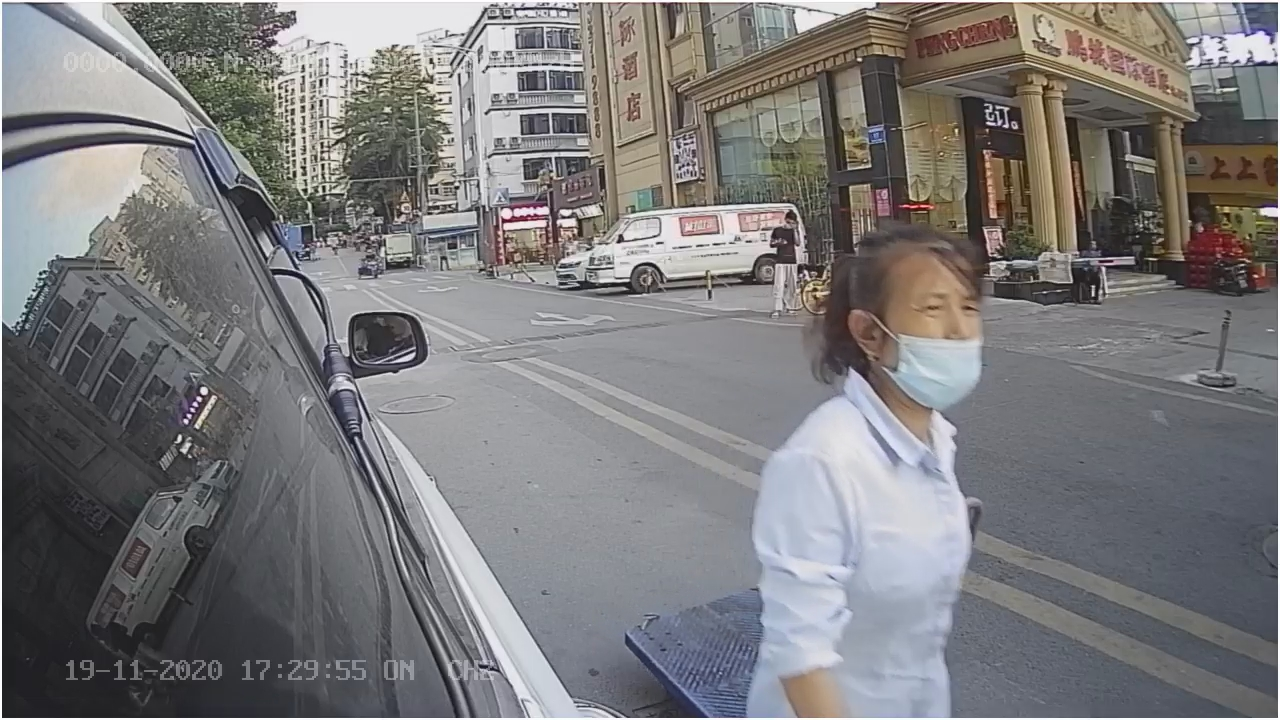person: (746, 224, 982, 705)
